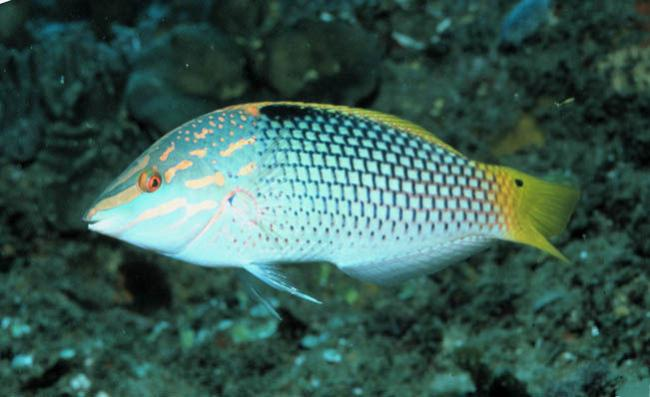fish: (83, 101, 580, 305)
